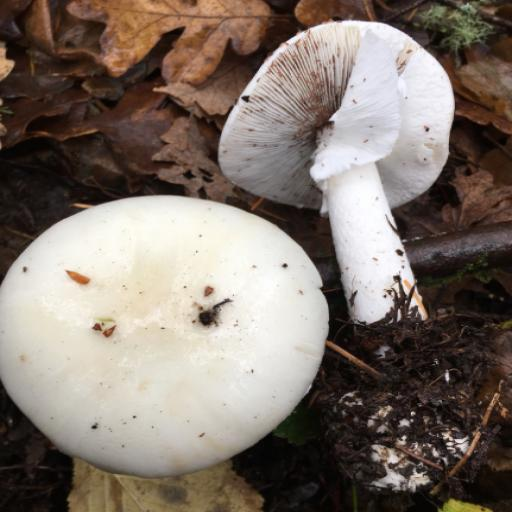mushroom: (207, 18, 483, 505), (1, 198, 328, 469)
